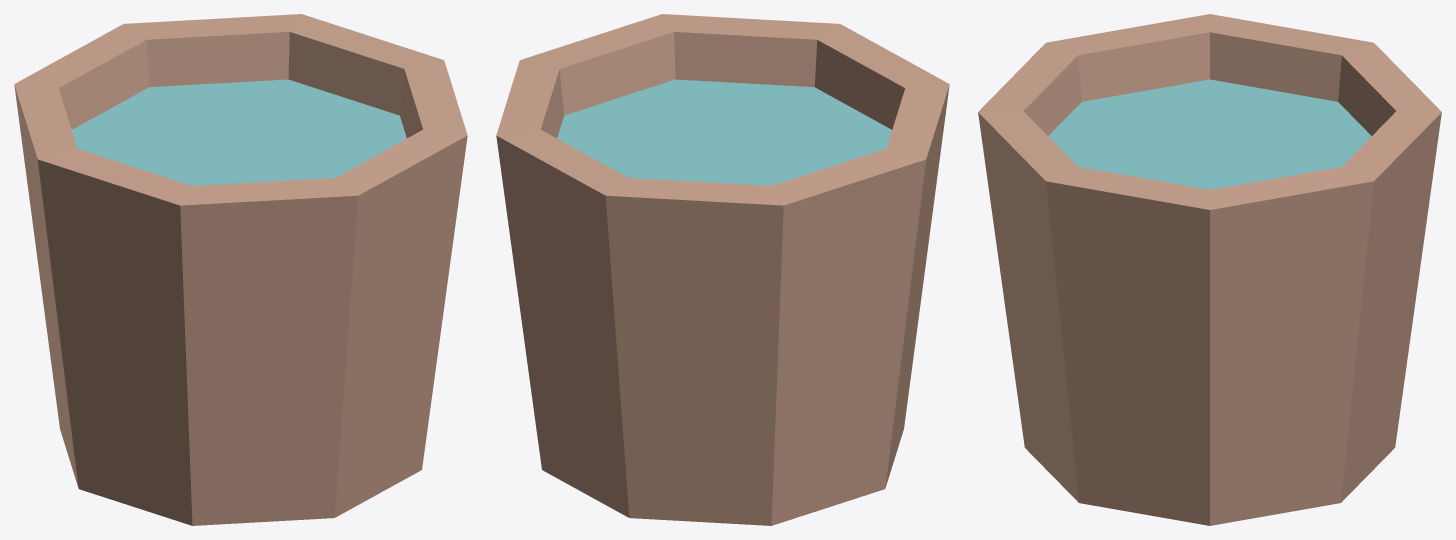
The model's file is Bucket full.fbx.
3 views of the same model, side by side, from view 1: azimuth 30°, elevation 25°; view 2: azimuth 150°, elevation 25°; view 3: azimuth 270°, elevation 25° (orthographic).
Parts seen in each view (by area): view 1: Cylinder; view 2: Cylinder; view 3: Cylinder.
Boxes of the visible parts, x1,y1,x2,y2 form: Cylinder: (14, 14, 467, 525); Cylinder: (496, 14, 949, 525); Cylinder: (978, 14, 1441, 525).
Size of the model in its own units: 250 by 201 by 250.
